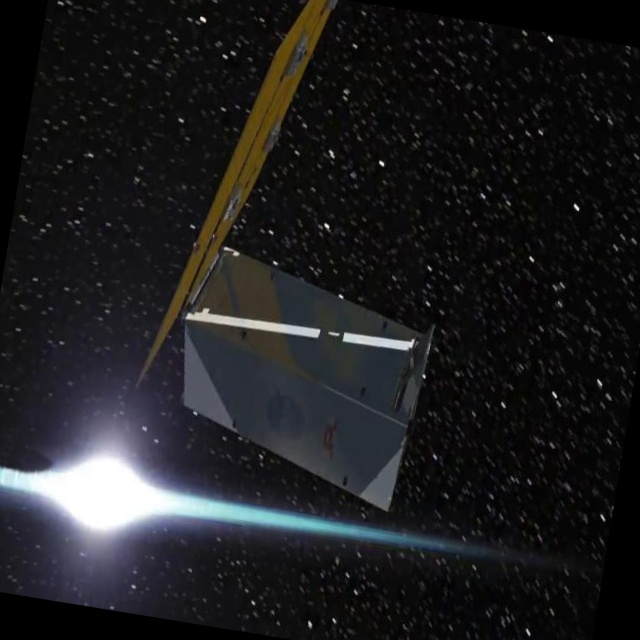medium_debris: (121, 0, 485, 562)
